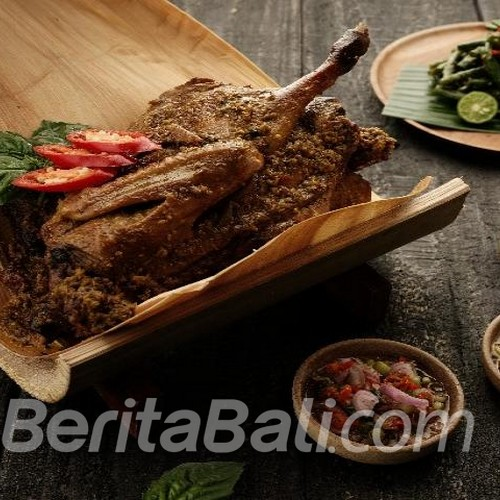bebek timbungan: (31, 22, 395, 261)
